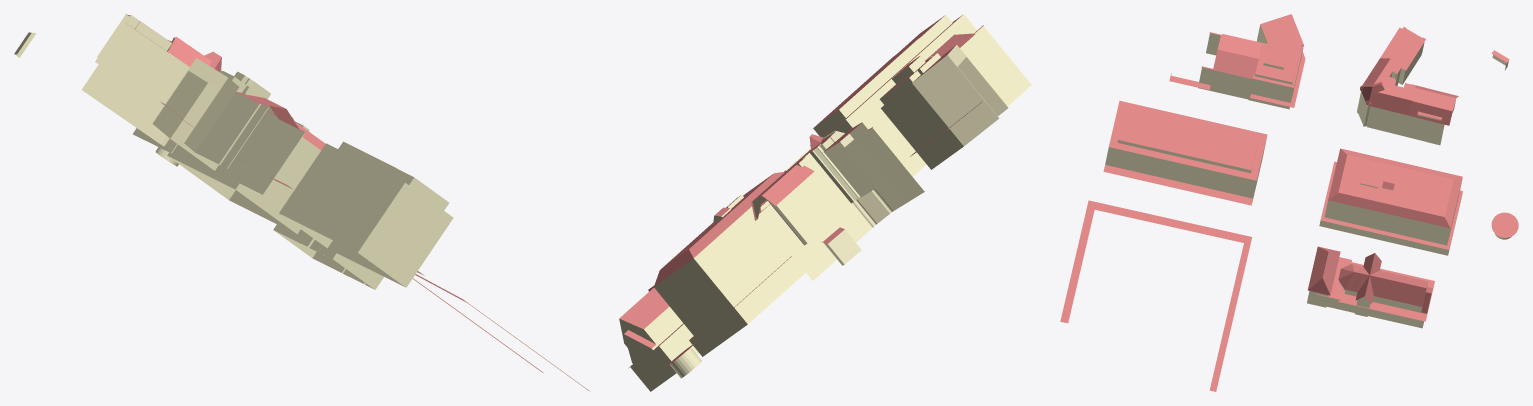
Rendered from tile_011.glb.
3 renders of one model, left to right at view 1: azimuth 30°, elevation 25°; view 2: azimuth 150°, elevation 25°; view 3: azimuth 270°, elevation 25°, orthographic. The views are drawn at different scales.
Parts seen in each view (by area): view 1: Batched_Building_ID_906908E0-0843-445A-BD79-05D9A30A137F, Batched_Building_ID_3B4238B1-D53F-405B-8738-4C425940250C; view 2: Batched_Building_ID_906908E0-0843-445A-BD79-05D9A30A137F, Batched_Building_ID_3B4238B1-D53F-405B-8738-4C425940250C; view 3: Batched_Building_ID_3B4238B1-D53F-405B-8738-4C425940250C, Batched_Building_ID_906908E0-0843-445A-BD79-05D9A30A137F.
Part boxes in pixels (x1,y1,x2,y2): Batched_Building_ID_906908E0-0843-445A-BD79-05D9A30A137F: (14,14,590,391); Batched_Building_ID_3B4238B1-D53F-405B-8738-4C425940250C: (126,14,586,389); Batched_Building_ID_906908E0-0843-445A-BD79-05D9A30A137F: (619,14,1031,391); Batched_Building_ID_3B4238B1-D53F-405B-8738-4C425940250C: (619,15,983,368); Batched_Building_ID_3B4238B1-D53F-405B-8738-4C425940250C: (1060,14,1518,391); Batched_Building_ID_906908E0-0843-445A-BD79-05D9A30A137F: (1105,24,1511,391).
Size of the model in its own units: 130 by 127 by 197.
